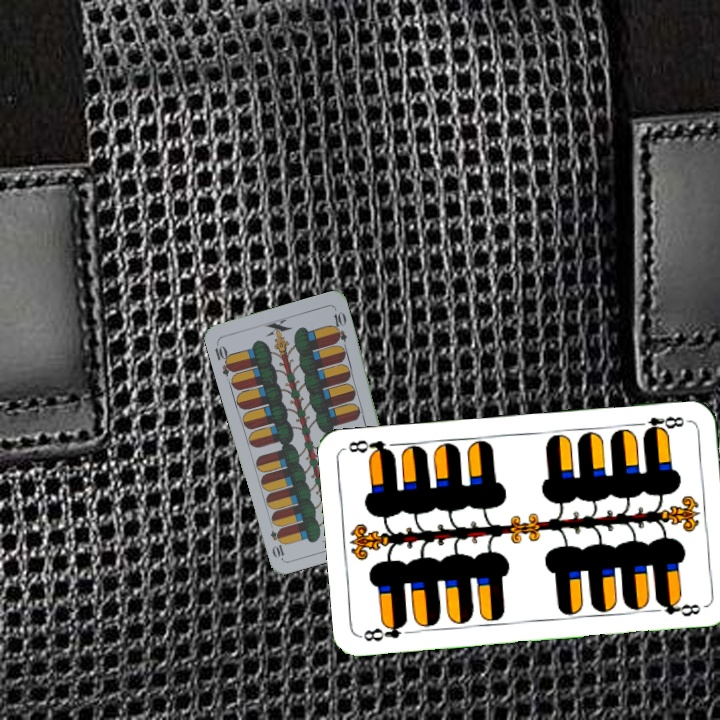E10: (211, 339, 237, 378)
E8: (358, 617, 410, 644), (631, 412, 686, 437)
